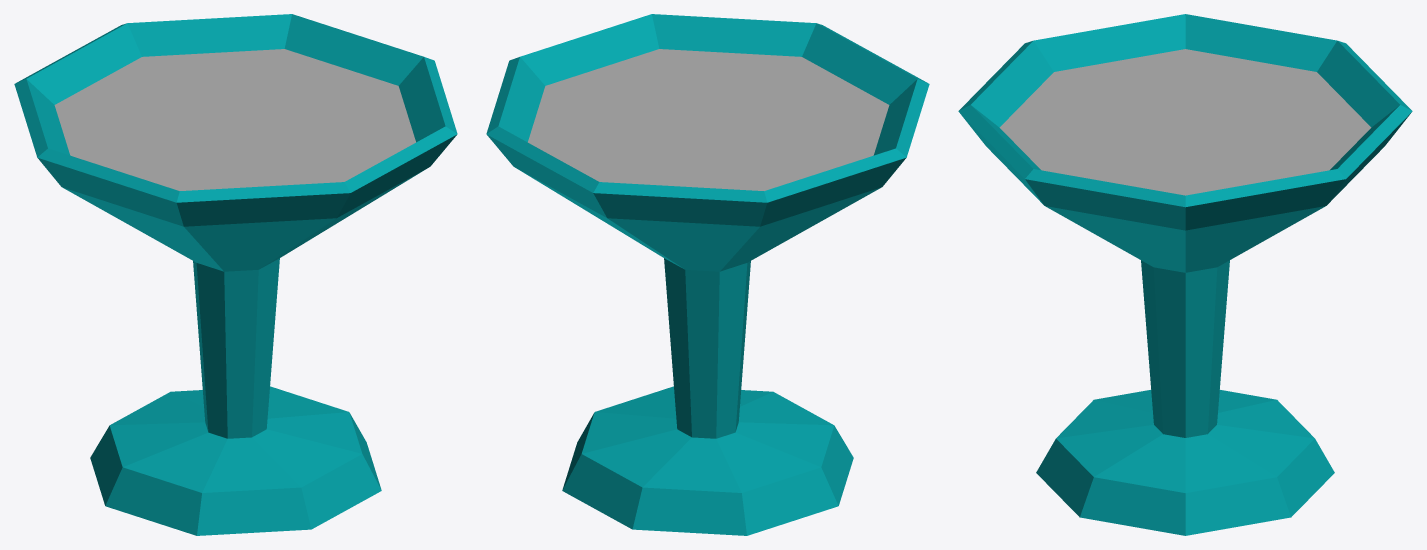
The model's file is WineGlass3.fbx.
The picture shows the model from 3 angles, left to right: view 1: azimuth 30°, elevation 25°; view 2: azimuth 150°, elevation 25°; view 3: azimuth 270°, elevation 25°; orthographic projection.
Visible parts, largest first — view 1: WineGlass3, LiquidFull; view 2: WineGlass3, LiquidFull; view 3: WineGlass3, LiquidFull.
Part boxes in pixels (left/top/right/bottom): WineGlass3: left=14, top=14, right=457, bottom=535; LiquidFull: left=54, top=49, right=415, bottom=190; WineGlass3: left=486, top=14, right=929, bottom=535; LiquidFull: left=528, top=49, right=889, bottom=190; WineGlass3: left=958, top=14, right=1412, bottom=535; LiquidFull: left=999, top=49, right=1371, bottom=195.
Bounding box in the file's own units: 0.2731 × 0.2441 × 0.2731.
